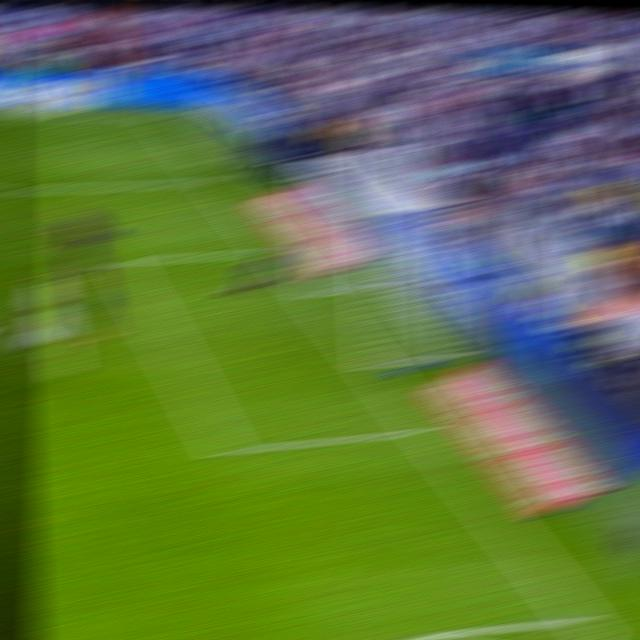bigarea_bottom_inner: (210, 433, 243, 463)
bottom_arc_area_intersection: (201, 170, 227, 188)
corner: (143, 108, 171, 121)
smallarea_bottom_outter: (409, 414, 441, 443)
